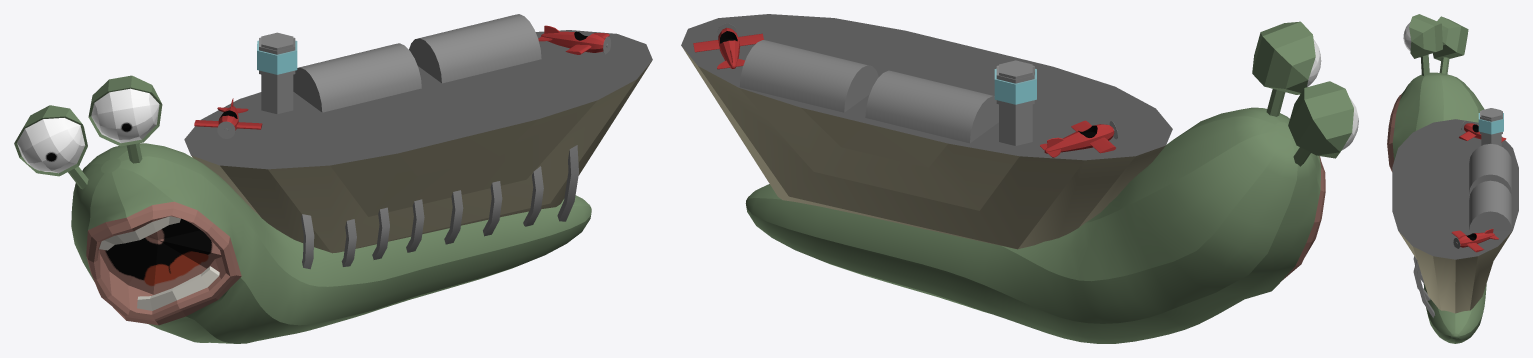
Rendered from SnailCraftCarrierUVed.fbx.
3 views of the same model, side by side, from view 1: azimuth 30°, elevation 25°; view 2: azimuth 150°, elevation 25°; view 3: azimuth 270°, elevation 25° (orthographic). The views are drawn at different scales.
Parts seen in each view (by area): view 1: polySurface33; view 2: polySurface33; view 3: polySurface33.
Boxes of the visible parts, x1,y1,x2,y2 form: polySurface33: (14,14,652,343); polySurface33: (681,14,1358,343); polySurface33: (1387,14,1518,343).
Size of the model in its own units: 42.09 by 19.79 by 12.01.
